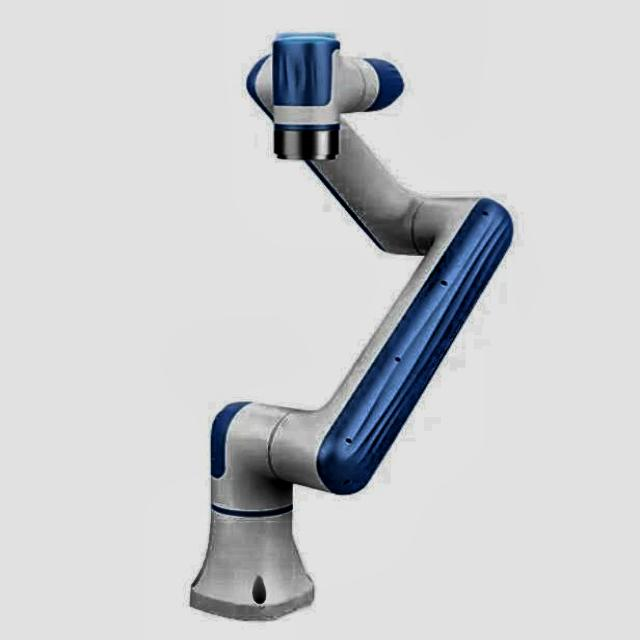robot: (186, 29, 514, 622)
